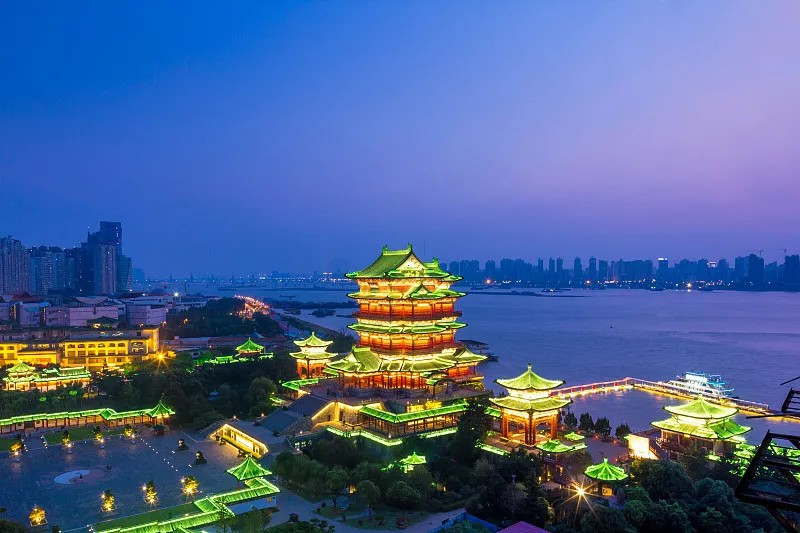Teng: (325, 245, 486, 389)
